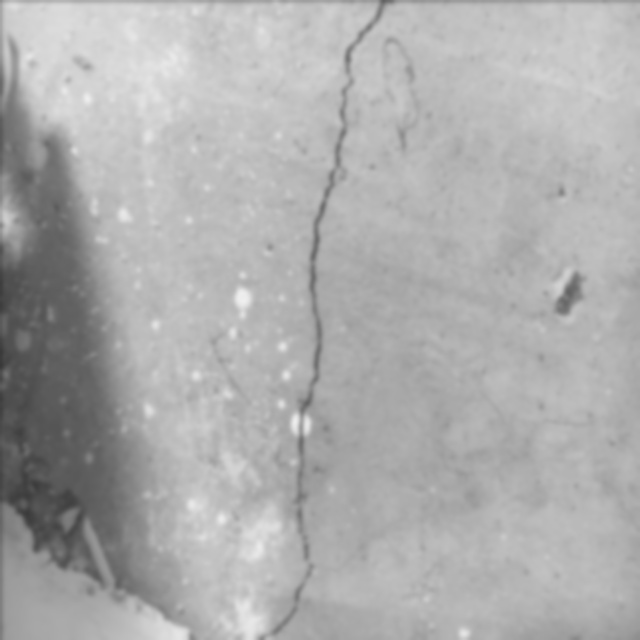SurfaceCrack: (222, 0, 403, 639)
